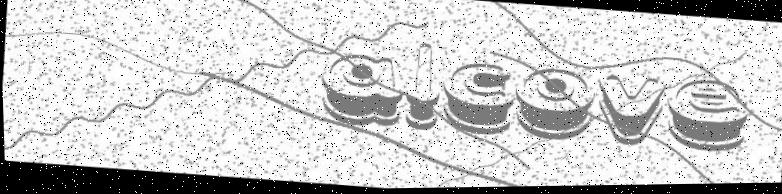a: (314, 50, 407, 130)
c: (436, 59, 517, 139)
e: (661, 77, 750, 158)
l: (400, 41, 446, 133)
o: (510, 65, 599, 146)
v: (591, 74, 667, 152)
